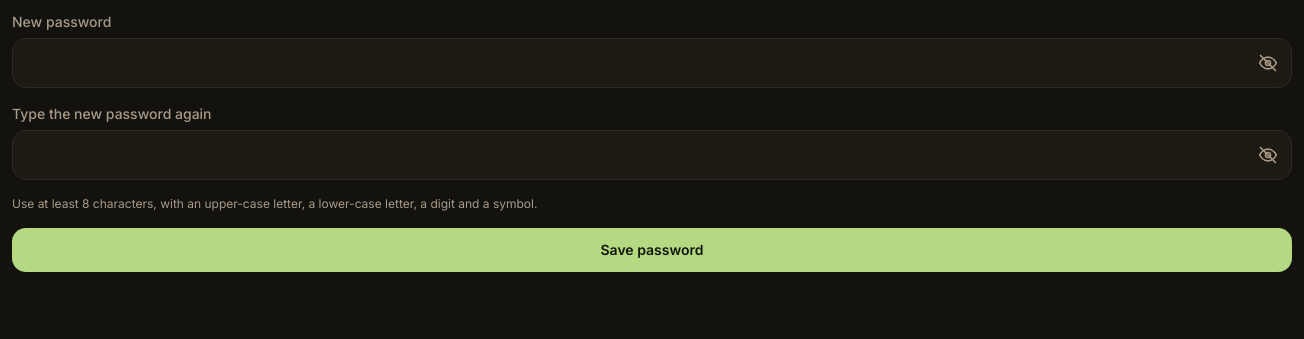
changing the password while signed in (issue #65) › uses the signed-in action, not the reset one, and shows the banner
The image size is (1304, 339).
Step 1. Type "Abcdef1!" into the password field labelled "New password" → (652, 63), box [12,38,1292,88]
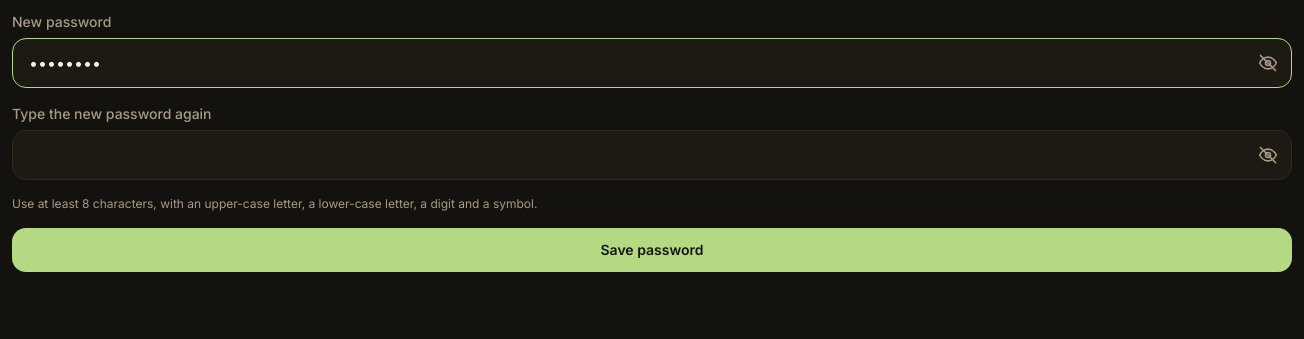
Step 2. Type "Abcdef1!" into the password field labelled "Type the new password again" → (652, 155), box [12,130,1292,180]
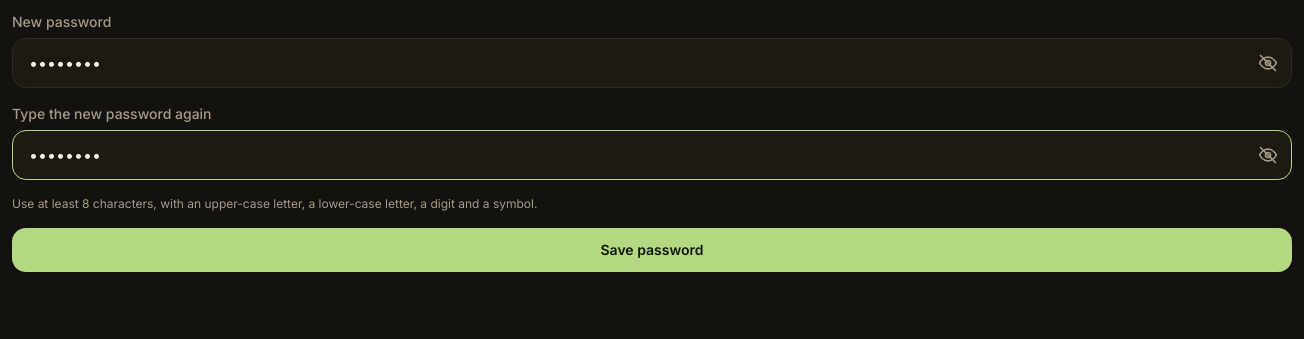
Step 3. Click the button "Save password" → (652, 250), box [12,228,1292,272]
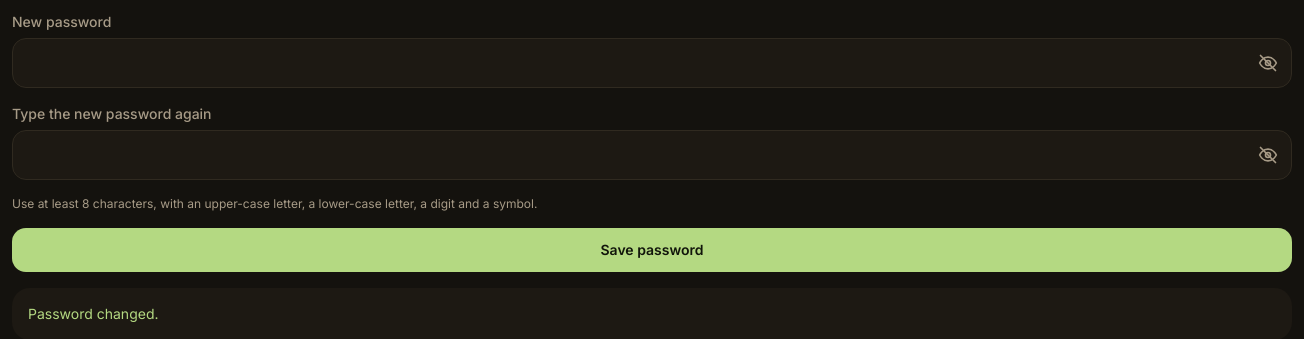
Now the message reads "Password changed.", box [28,305,158,322]
